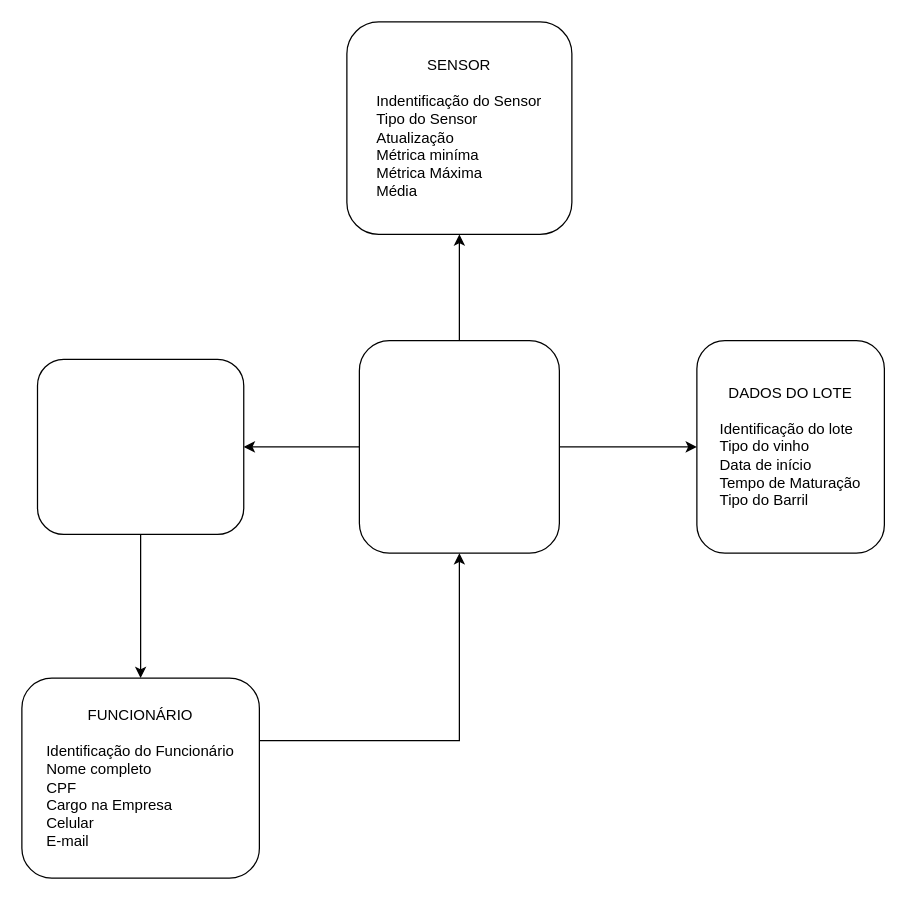
This 906x900 diagram has some shape labels left out. Each missing label, with the centre of its shape:
AMBIENTE Identificação do Ambiente Nome do Ambiente Mensagem de Alerta: pixel 458 446
EMPRESA Identificação da Empresa Nome fantasia CNPJ: pixel 140 446
